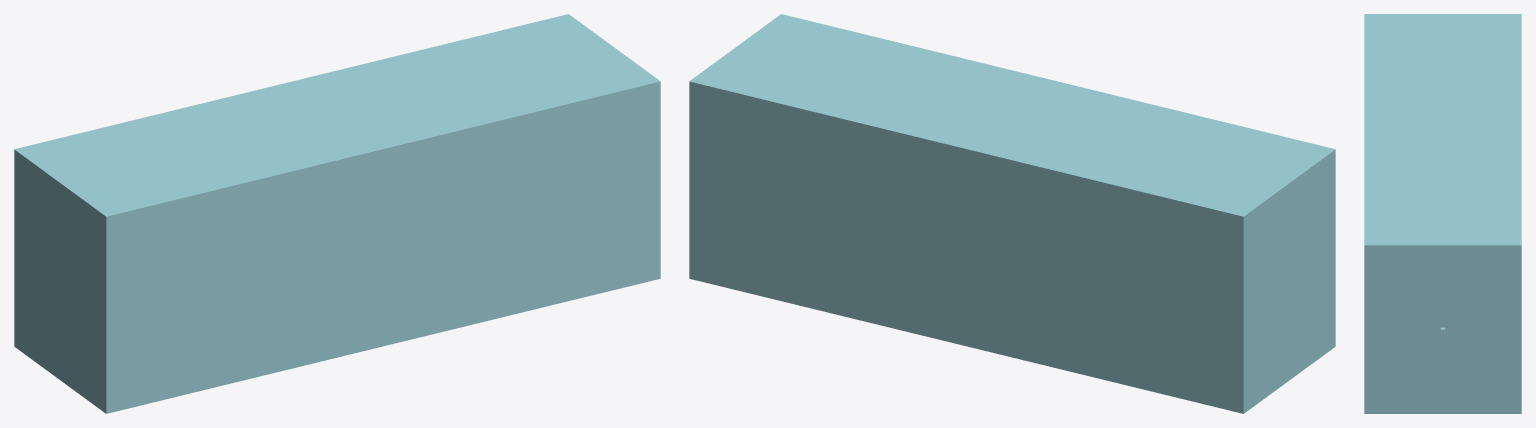
Rendered from cuboid_eraser_v7004.obj.
3 views of the same model, side by side, from view 1: azimuth 30°, elevation 25°; view 2: azimuth 150°, elevation 25°; view 3: azimuth 270°, elevation 25° (orthographic). The views are drawn at different scales.
Bounding box in the file's own units: 0.1182 × 0.0398 × 0.0337.
Materials: 1 (1 with a texture image).
